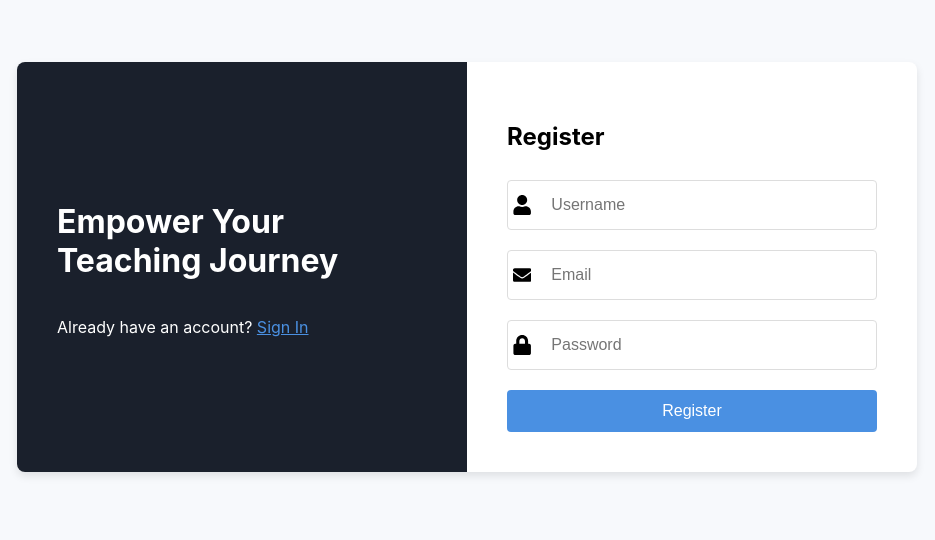
Test: FacultyRegister › displays error message for invalid password
Simulate user input with invalid password
In the field with placeholder "Username": (706, 205) [541, 186, 871, 224], type "testuser"
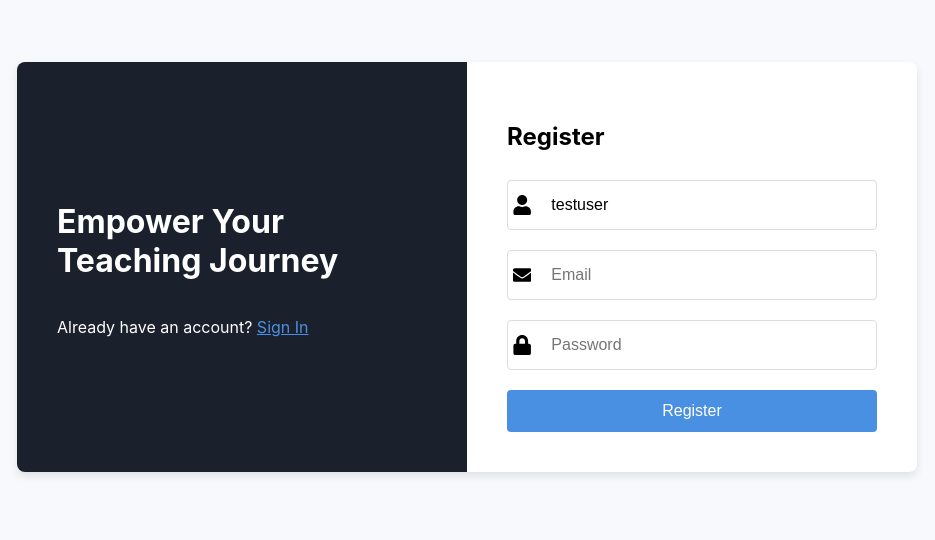
In the field with placeholder "Email": (706, 275) [541, 256, 871, 294], type "test@example.com"
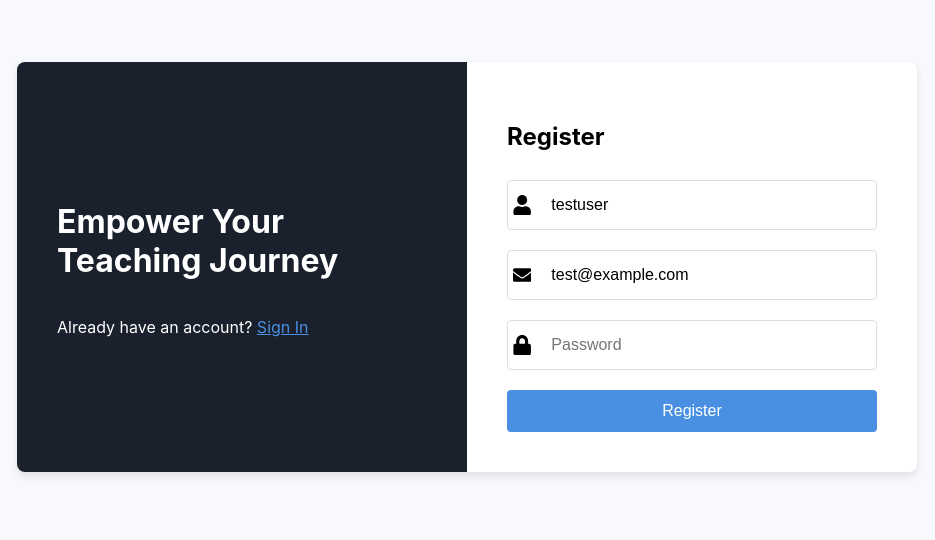
In the password field with placeholder "Password": (706, 345) [541, 326, 871, 364], type "password"
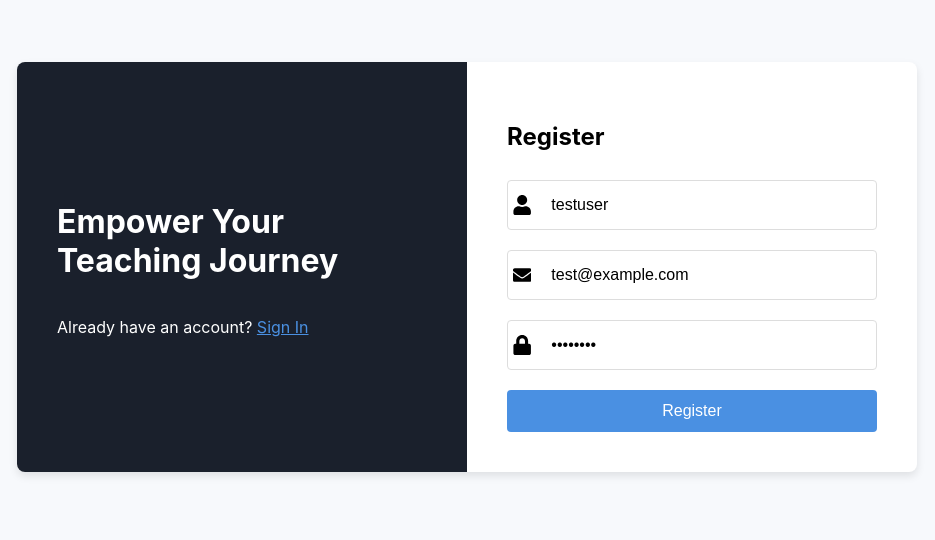
Simulate form submission
Click the button "Register": (692, 411) [507, 390, 877, 432]
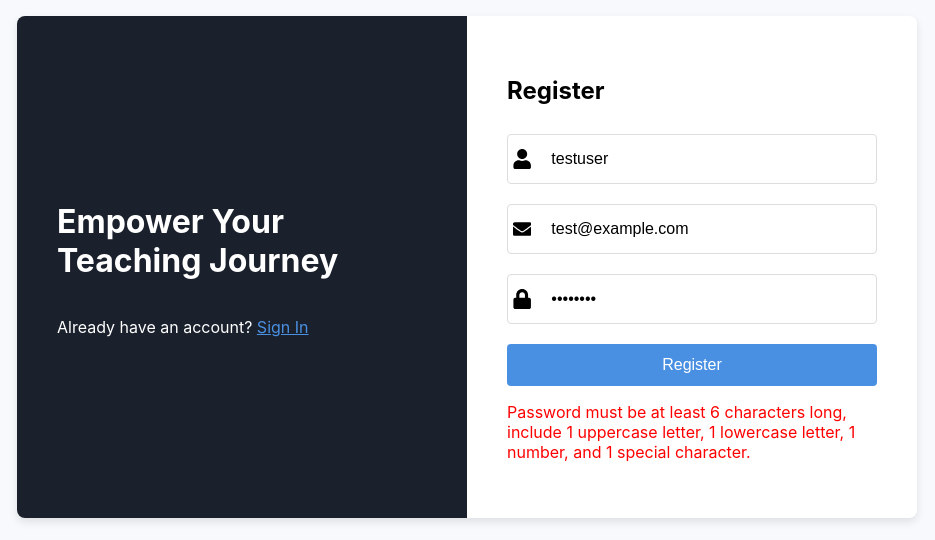
Check: the text "Password must be at least 6 characters long, include 1 uppercase letter, 1 lowercase letter, 1 number, and 1 special cha" is shown, box [507, 402, 855, 462]
